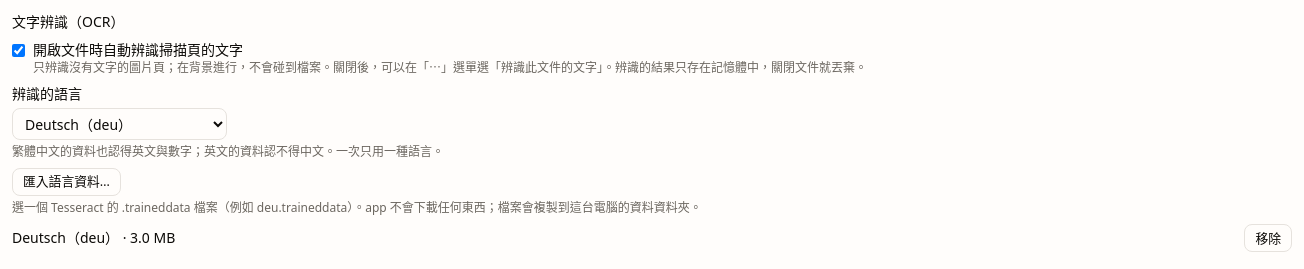
Test case: the settings of recognising text (B2-10) › removes an imported language, and leaves it to the app if that was the one chosen
Click the button "移除" at (1268, 238), box [1244,224,1292,252]
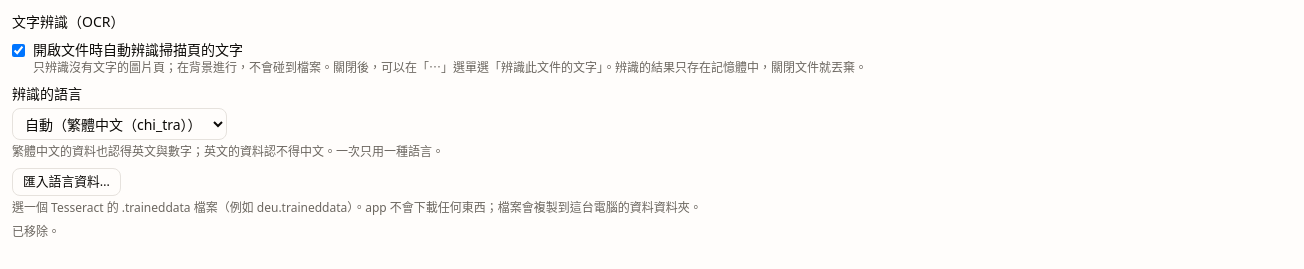
Now the text "已移除。" is shown, box [12,223,60,240]
Now the list "匯入的語言" is gone
Now no buttons "移除" are shown
